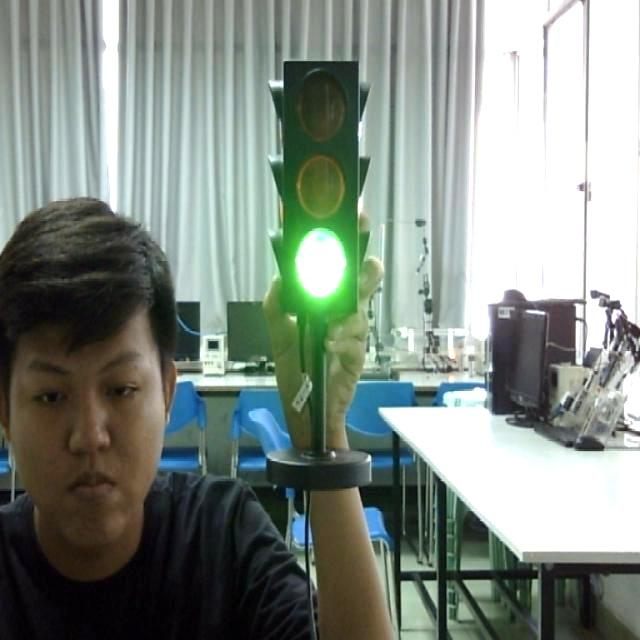Green: (266, 56, 394, 324)
